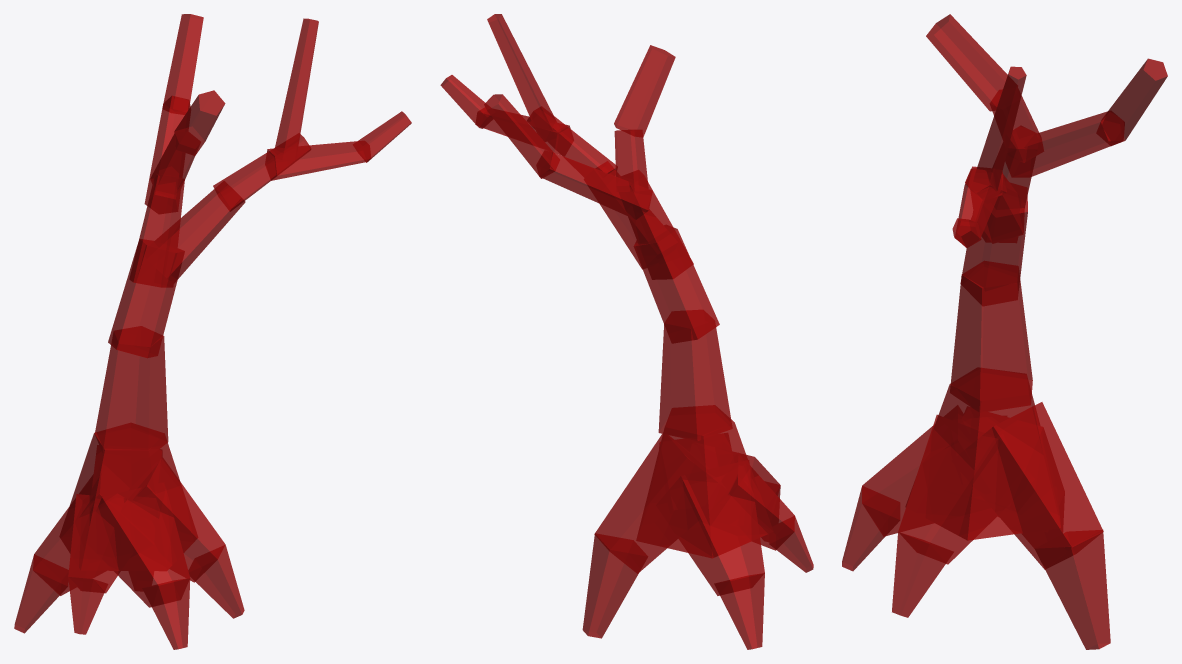
File: SM_Env_Tree_Swamp_03_Collision.fbx
3 views of the same model, side by side, from view 1: azimuth 30°, elevation 25°; view 2: azimuth 150°, elevation 25°; view 3: azimuth 270°, elevation 25° (orthographic). The views are drawn at different scales.
Visible parts, largest first — view 1: SM_Env_Tree_Swamp_03_Collision; view 2: SM_Env_Tree_Swamp_03_Collision; view 3: SM_Env_Tree_Swamp_03_Collision.
Part boxes in pixels (<box>): SM_Env_Tree_Swamp_03_Collision: <box>14,14,411,649</box>; SM_Env_Tree_Swamp_03_Collision: <box>440,14,813,649</box>; SM_Env_Tree_Swamp_03_Collision: <box>842,14,1167,649</box>.
Size of the model in its own units: 518 by 780 by 351.
